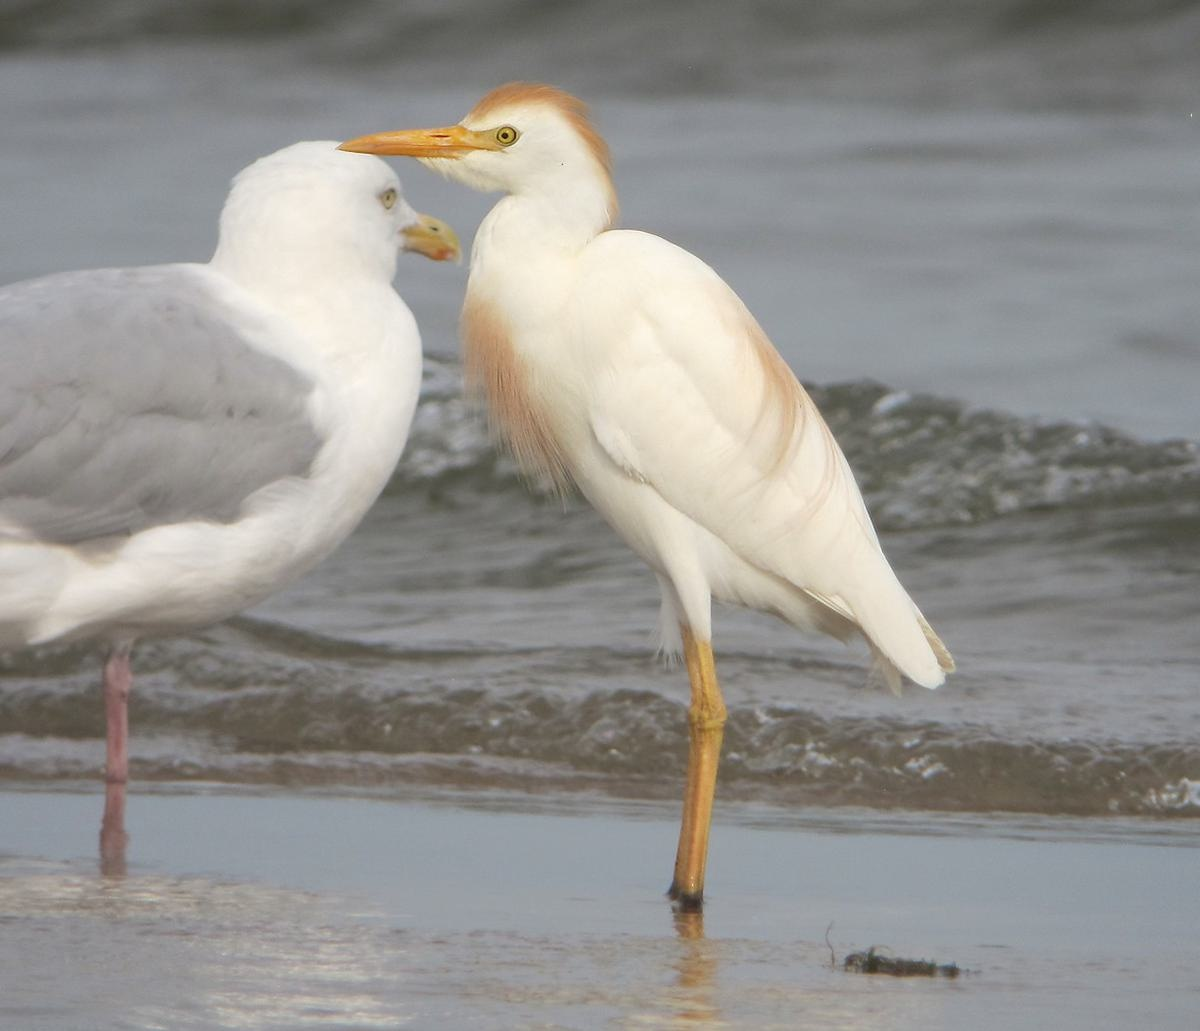egret: (345, 78, 971, 926)
